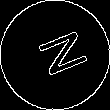N_W: (24, 27, 86, 83)
